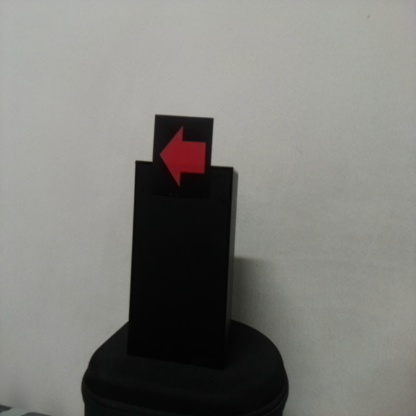id_4: (154, 117, 212, 200)
